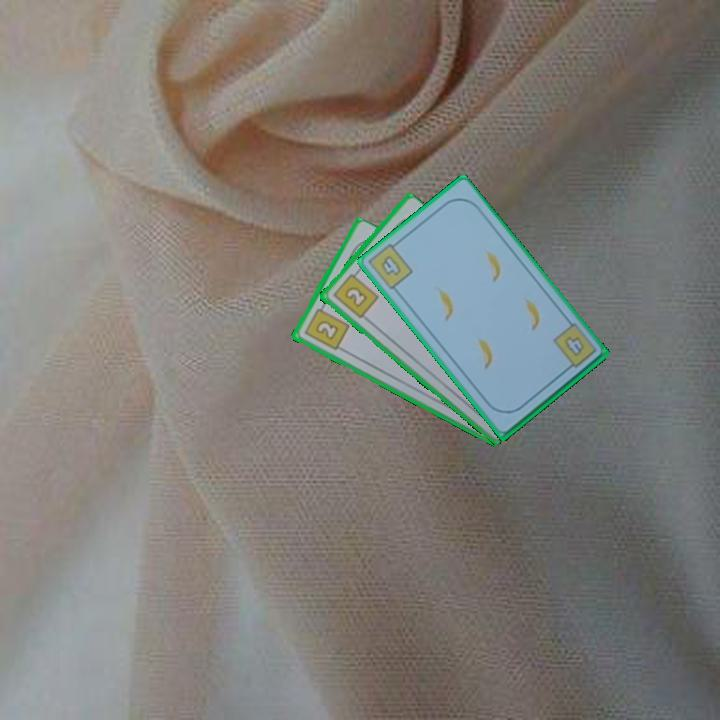2b: (329, 267, 381, 321), (300, 300, 351, 353)
4b: (365, 237, 416, 293), (560, 332, 587, 360)
